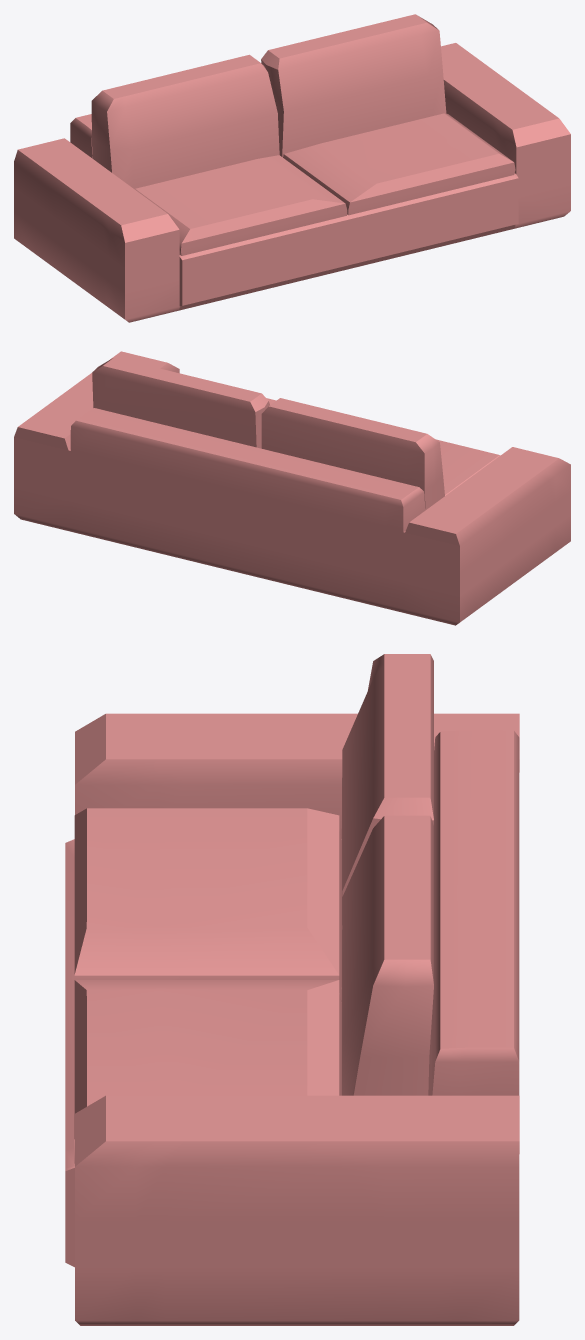
File: Couch_Model_SC.fbx
3 renders of one model, top to bottom at view 1: azimuth 30°, elevation 25°; view 2: azimuth 150°, elevation 25°; view 3: azimuth 270°, elevation 25°, orthographic. The views are drawn at different scales.
Parts seen in each view (by area): view 1: pCube1; view 2: pCube1; view 3: pCube1.
Part boxes in pixels (x1,y1,x2,y2): pCube1: (14,14,570,322); pCube1: (14,351,570,625); pCube1: (65,654,519,1325).
Bounding box in the file's own units: 7.94 × 2.8 × 3.5.
